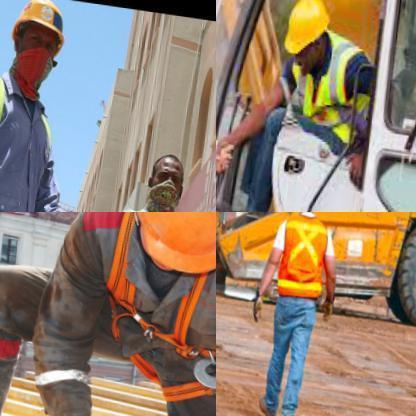vest: (30, 212, 215, 415), (280, 26, 379, 146), (0, 62, 64, 211), (281, 212, 336, 295)
